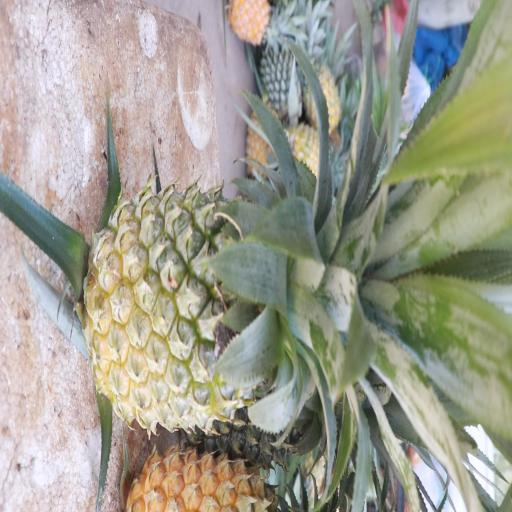------------------------------: (90, 186, 341, 434)
Pineapple - v8 v1: (301, 35, 342, 130), (230, 0, 282, 49)
